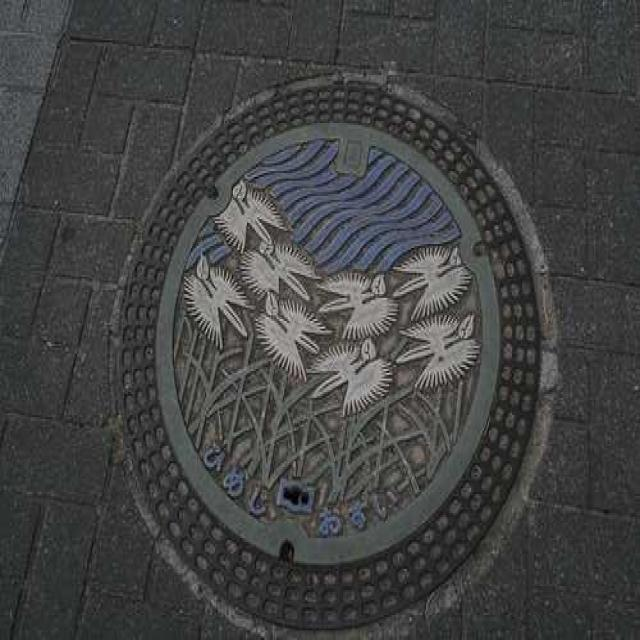manhole: (120, 75, 555, 633)
